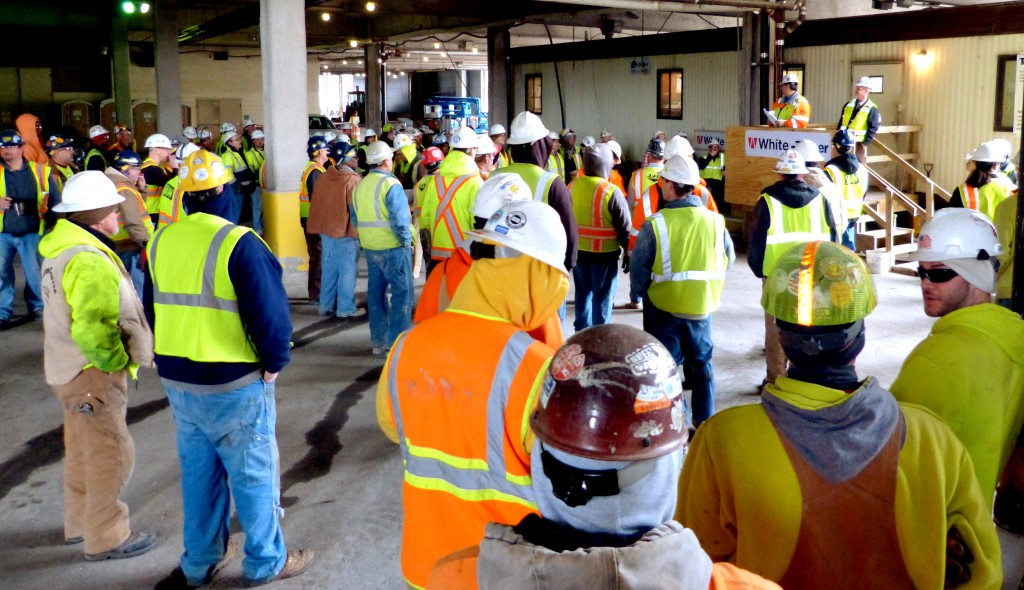epi: (716, 237, 943, 590), (391, 202, 576, 590), (138, 146, 307, 563), (510, 322, 739, 590), (37, 168, 166, 520), (890, 205, 1024, 464), (637, 158, 735, 350), (354, 142, 421, 345), (425, 129, 485, 269), (563, 142, 628, 270), (323, 143, 369, 301), (1, 128, 52, 266), (507, 104, 573, 202), (758, 147, 827, 222), (958, 140, 1019, 215), (831, 128, 877, 217), (139, 129, 177, 233), (41, 132, 89, 207), (843, 69, 889, 145), (764, 65, 813, 126), (299, 134, 333, 217), (388, 127, 422, 182), (220, 131, 252, 189), (700, 136, 731, 188), (80, 121, 113, 168), (632, 138, 664, 186), (108, 118, 137, 163), (249, 130, 272, 184), (488, 119, 510, 171), (172, 122, 200, 158), (196, 127, 216, 156)
